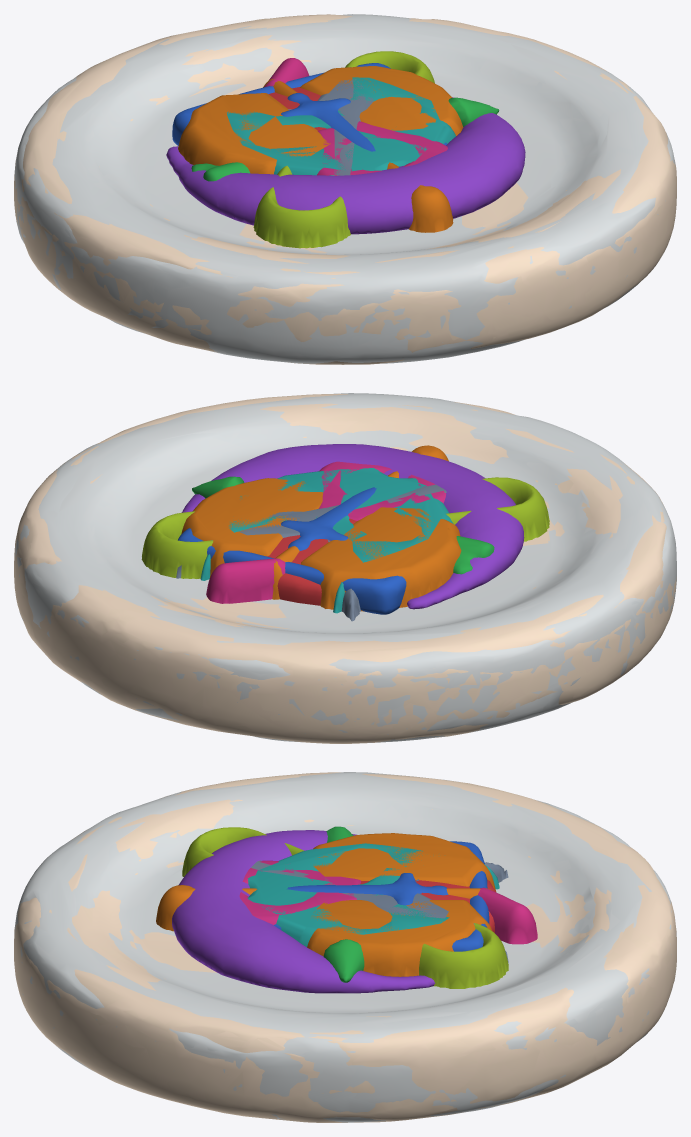
The model's file is pieces-mk.glb.
3 renders of one model, top to bottom at view 1: azimuth 30°, elevation 25°; view 2: azimuth 150°, elevation 25°; view 3: azimuth 270°, elevation 25°, orthographic.
Parts seen in each view (by area): view 1: token_rogue_blue, token_archer_blue, token_archer_red, token_rogue_red, token_barbarian_red, token_mage_red, token_mage_blue, token_hunter_red, token_warlock_blue, token_warlock_red, token_barbarian_blue, token_bard_red (+2 smaller); view 2: token_rogue_blue, token_archer_red, token_archer_blue, token_rogue_red, token_barbarian_red, token_mage_red, token_hunter_red, token_mage_blue, token_bard_red, token_barbarian_blue, token_warlock_blue, token_warrior_red (+5 smaller); view 3: token_rogue_blue, token_archer_red, token_archer_blue, token_rogue_red, token_barbarian_red, token_mage_red, token_mage_blue, token_hunter_red, token_bard_red, token_warlock_blue, token_barbarian_blue, token_warlock_red (+4 smaller).
Part boxes in pixels (x1=…): token_rogue_blue: x1=14, y1=14, x2=674, y2=363; token_archer_blue: x1=14, y1=14, x2=675, y2=363; token_archer_red: x1=14, y1=14, x2=676, y2=364; token_rogue_red: x1=14, y1=16, x2=676, y2=364; token_barbarian_red: x1=180, y1=66, x2=462, y2=232; token_mage_red: x1=166, y1=97, x2=525, y2=233; token_mage_blue: x1=167, y1=113, x2=525, y2=234; token_hunter_red: x1=227, y1=77, x2=455, y2=175; token_warlock_blue: x1=253, y1=51, x2=434, y2=248; token_warlock_red: x1=255, y1=51, x2=434, y2=248; token_barbarian_blue: x1=178, y1=66, x2=463, y2=232; token_bard_red: x1=264, y1=58, x2=447, y2=175; token_rogue_blue: x1=16, y1=393, x2=676, y2=742; token_archer_red: x1=14, y1=393, x2=675, y2=743; token_archer_blue: x1=15, y1=394, x2=676, y2=742; token_rogue_red: x1=14, y1=394, x2=676, y2=743; token_barbarian_red: x1=185, y1=445, x2=460, y2=611; token_mage_red: x1=181, y1=444, x2=523, y2=608; token_hunter_red: x1=201, y1=468, x2=453, y2=613; token_mage_blue: x1=183, y1=444, x2=524, y2=609; token_bard_red: x1=206, y1=461, x2=445, y2=603; token_barbarian_blue: x1=181, y1=446, x2=461, y2=608; token_warlock_blue: x1=141, y1=477, x2=549, y2=578; token_warrior_red: x1=178, y1=488, x2=406, y2=614; token_rogue_blue: x1=14, y1=772, x2=676, y2=1122; token_archer_red: x1=14, y1=772, x2=676, y2=1122; token_archer_blue: x1=16, y1=772, x2=671, y2=1120; token_rogue_red: x1=14, y1=772, x2=676, y2=1122; token_barbarian_red: x1=156, y1=833, x2=494, y2=976; token_mage_red: x1=172, y1=830, x2=434, y2=993; token_mage_blue: x1=172, y1=830, x2=434, y2=993; token_hunter_red: x1=247, y1=843, x2=499, y2=946; token_bard_red: x1=239, y1=860, x2=537, y2=944; token_warlock_blue: x1=182, y1=827, x2=508, y2=988; token_barbarian_blue: x1=160, y1=833, x2=495, y2=976; token_warlock_red: x1=182, y1=827, x2=508, y2=988.
Bounding box in the file's own units: 0.414 × 0.0748 × 0.4142.
